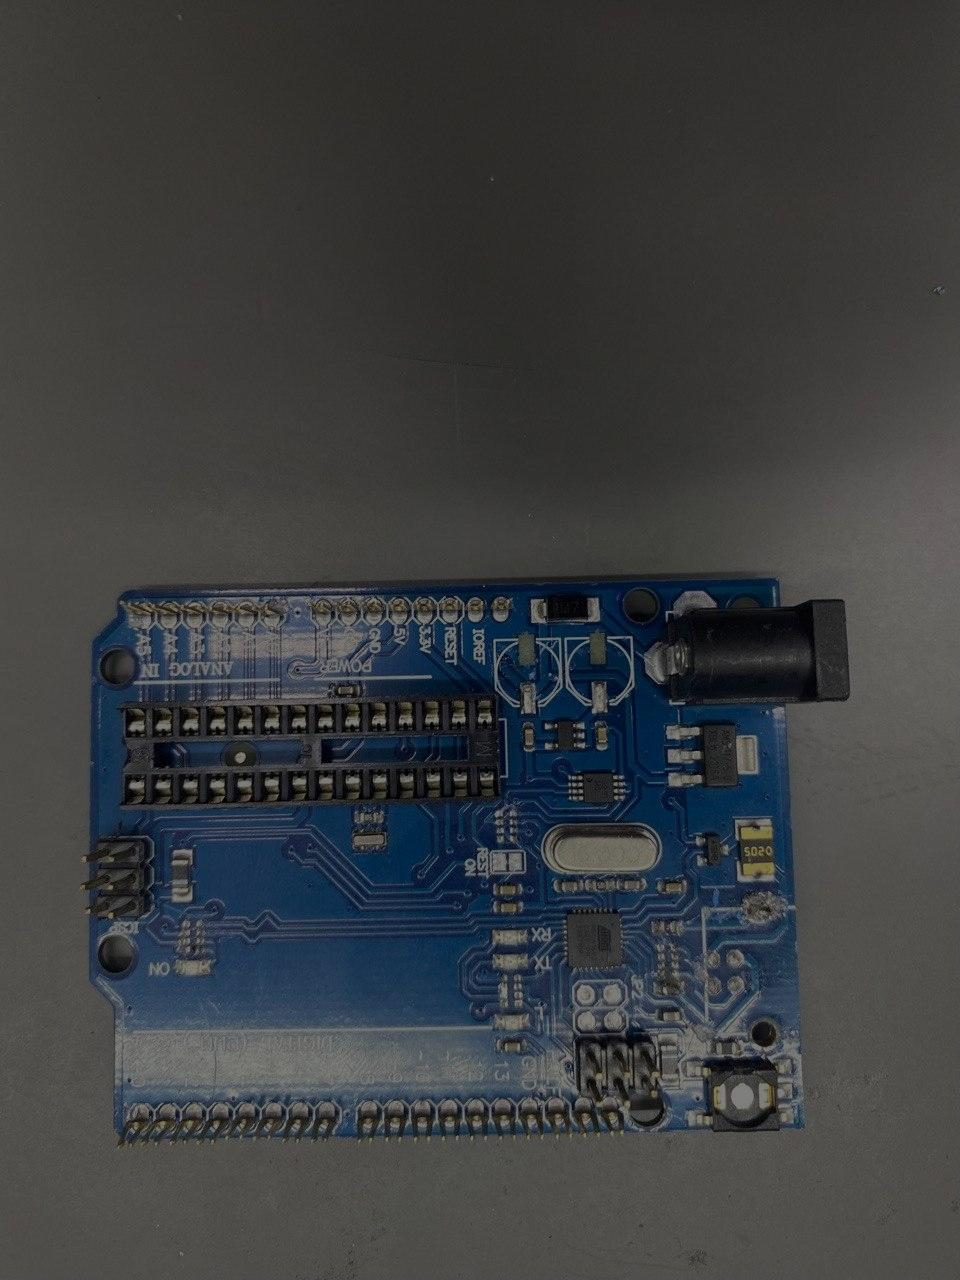Arduino board: (79, 577, 850, 1149)
